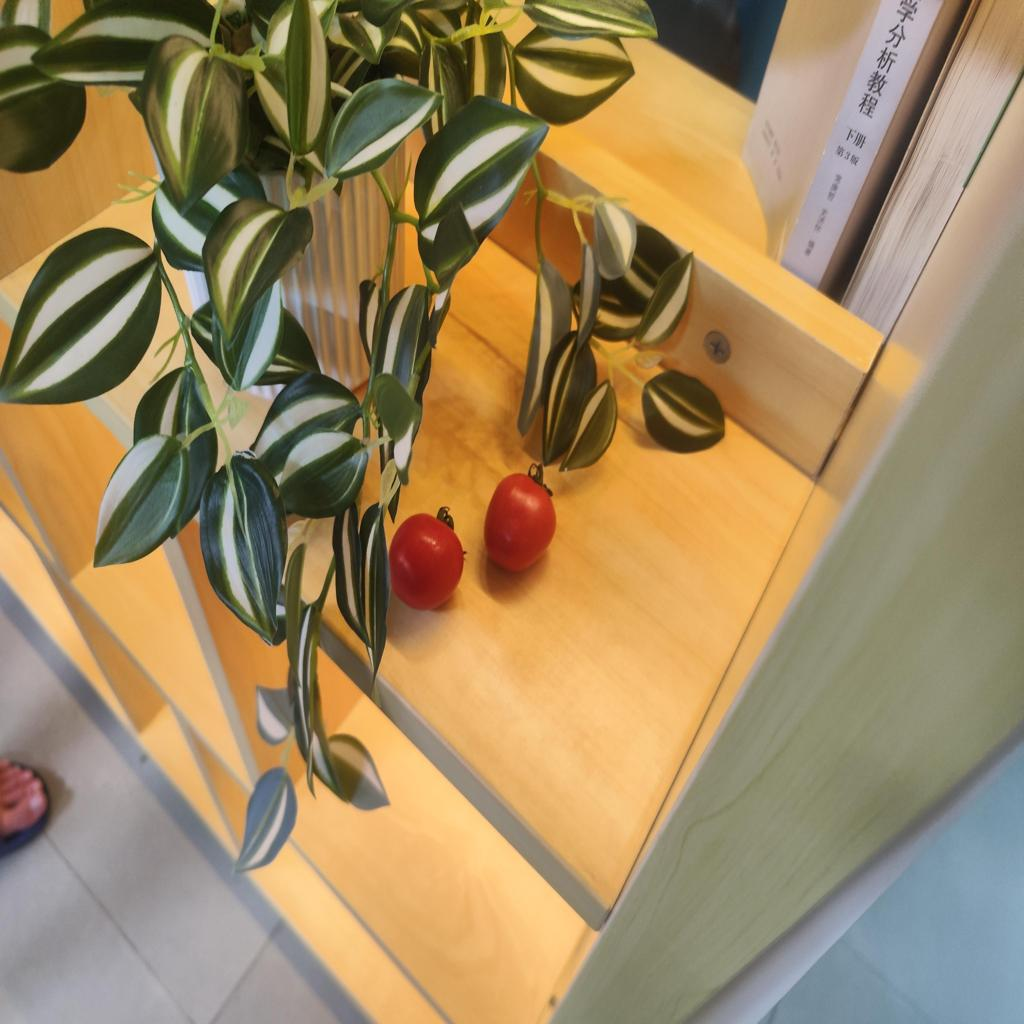tomato: (381, 505, 469, 615), (484, 471, 563, 585)
